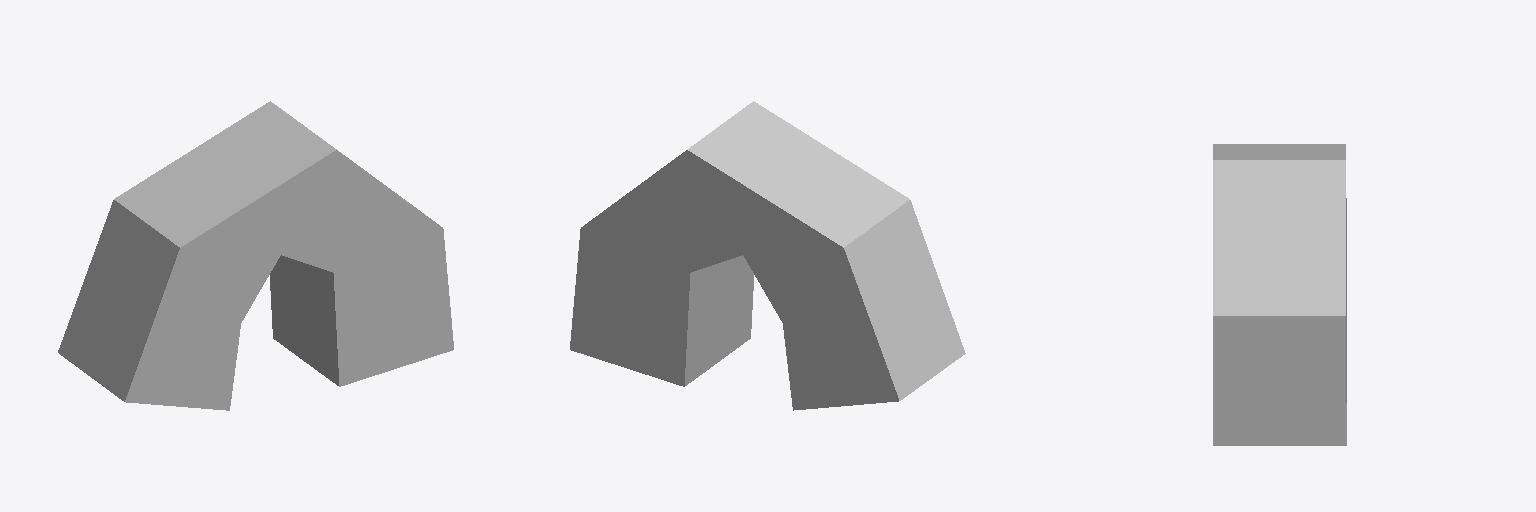
File: Animation_000058.obj
The picture shows the model from 3 angles: view 1: azimuth 30°, elevation 25°; view 2: azimuth 150°, elevation 25°; view 3: azimuth 270°, elevation 25°; orthographic projection.
Parts seen in each view (by area): view 1: Cube; view 2: Cube; view 3: Cube.
Boxes of the visible parts, box(x1,y1,x2,y2) form: Cube: box(58, 101, 453, 410); Cube: box(570, 101, 965, 410); Cube: box(1213, 144, 1346, 445).
Size of the model in its own units: 3.82 by 2.63 by 1.33.